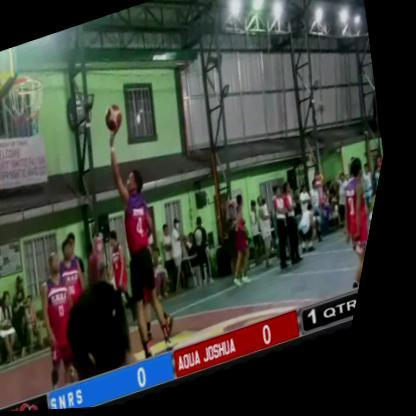basketball: (100, 95, 140, 145)
rim: (0, 59, 64, 152)
